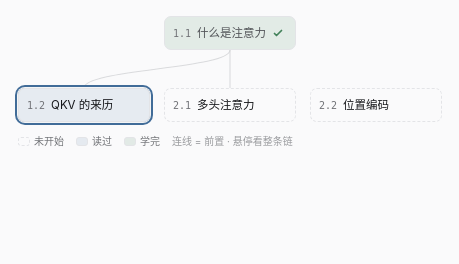
Scenario: SectionTree › activeId 的小节被标成「下一步」
Hover over the text "QKV 的来历" at (82, 105), box x1=51 y1=98 x2=113 y2=112
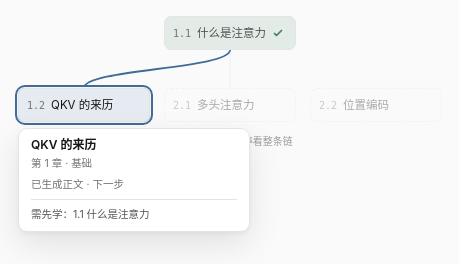
Expected: the text "已生成正文 · 下一步" is shown, x1=31 y1=178 x2=124 y2=191
